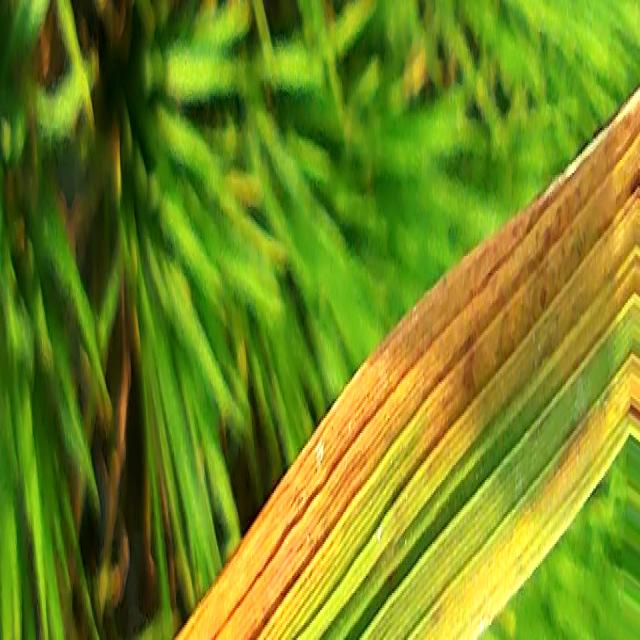NBS: (427, 584, 447, 640)
